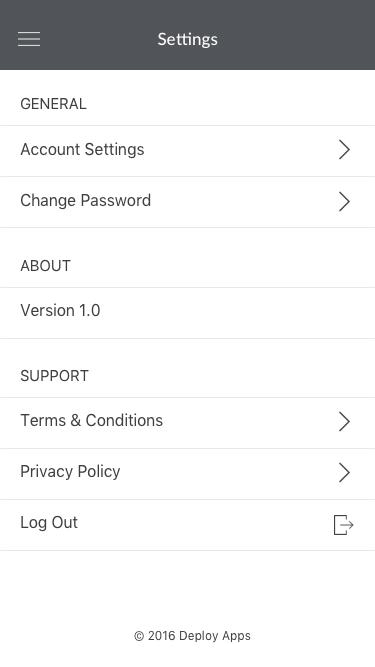Icon: (333, 514, 354, 536), (18, 31, 42, 48), (338, 192, 351, 213), (338, 411, 351, 432), (338, 462, 351, 483), (338, 139, 350, 161)
Text: (21, 193, 151, 211), (21, 142, 145, 160), (21, 413, 164, 428), (21, 464, 122, 481), (132, 630, 251, 643), (20, 303, 102, 318), (157, 32, 219, 50), (22, 515, 80, 532), (21, 369, 90, 383), (21, 97, 88, 111), (21, 259, 72, 272)
Toolbar: (1, 1, 375, 71)
